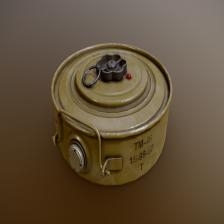TM-46: (54, 40, 172, 179)
